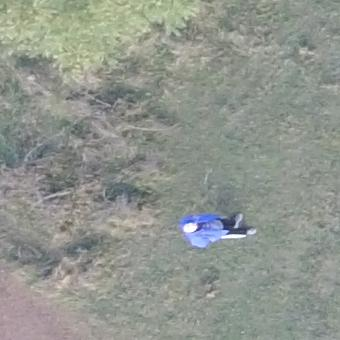human: (181, 208, 256, 251)
